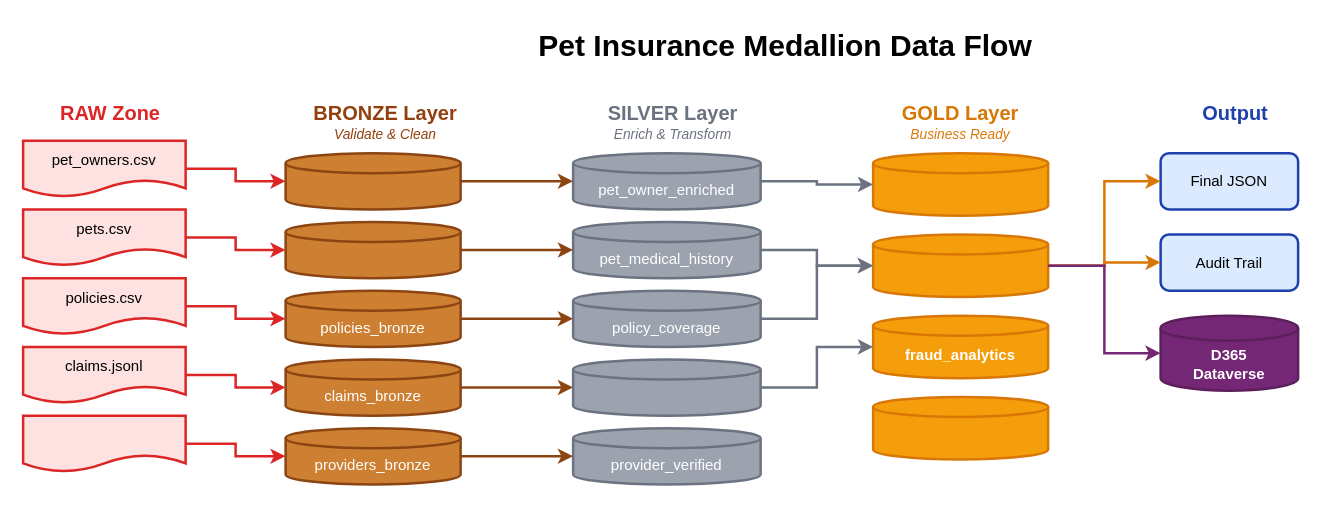
The diagram is 1320 pixels wide and 506 high, and some of its shapes have lost their labels. Each missing label, with the centre of its shape:
"claim_decision" belongs at (x=960, y=265).
"claim_enriched" belongs at (x=666, y=387).
"monthly_kpis" belongs at (x=960, y=427).
"pet_owner_360" belongs at (x=960, y=183).
"pet_owners_bronze" belongs at (x=372, y=180).
"pets_bronze" belongs at (x=372, y=249).
"providers.csv" belongs at (x=103, y=443).
